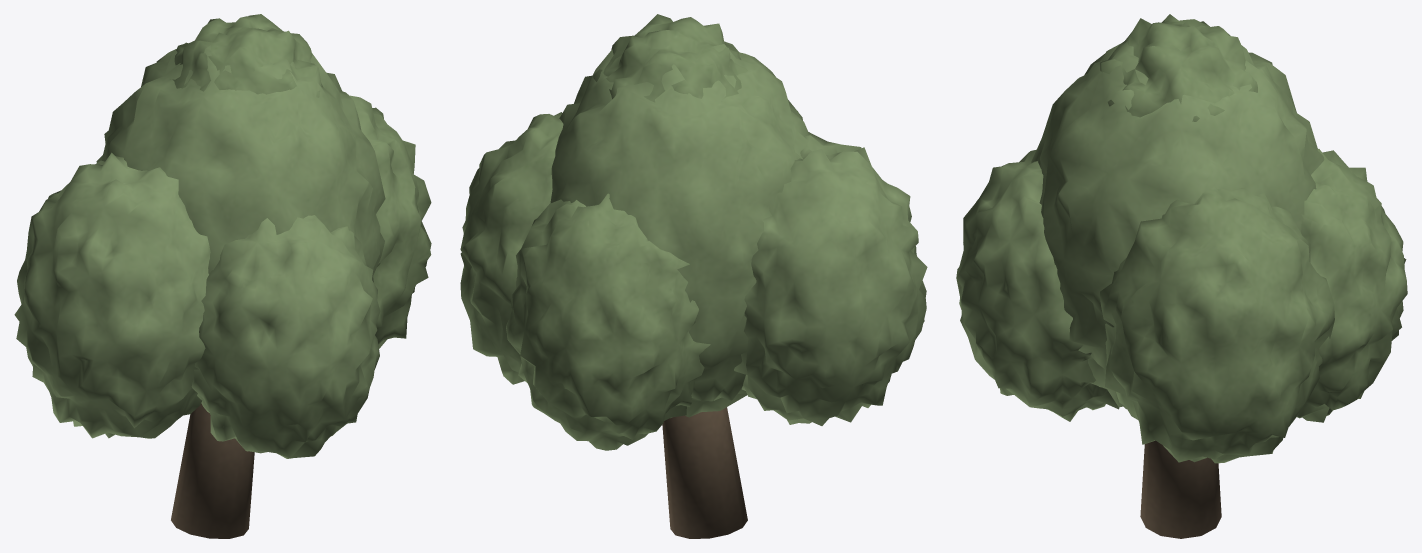
The model's file is willow.glb.
3 renders of one model, left to right at view 1: azimuth 30°, elevation 25°; view 2: azimuth 150°, elevation 25°; view 3: azimuth 270°, elevation 25°, orthographic. The views are drawn at different scales.
Parts seen in each view (by area): view 1: willow; view 2: willow; view 3: willow.
Part boxes in pixels (<box>): willow: <box>14,14,431,538</box>; willow: <box>460,14,927,538</box>; willow: <box>956,14,1407,538</box>.
Size of the model in its own units: 5.81 by 6.71 by 5.33.
1 material, 1 textured.
